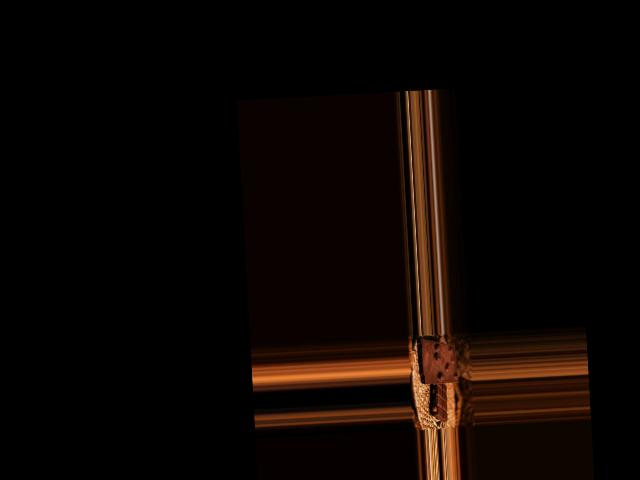chocolate: (417, 336, 459, 387)
